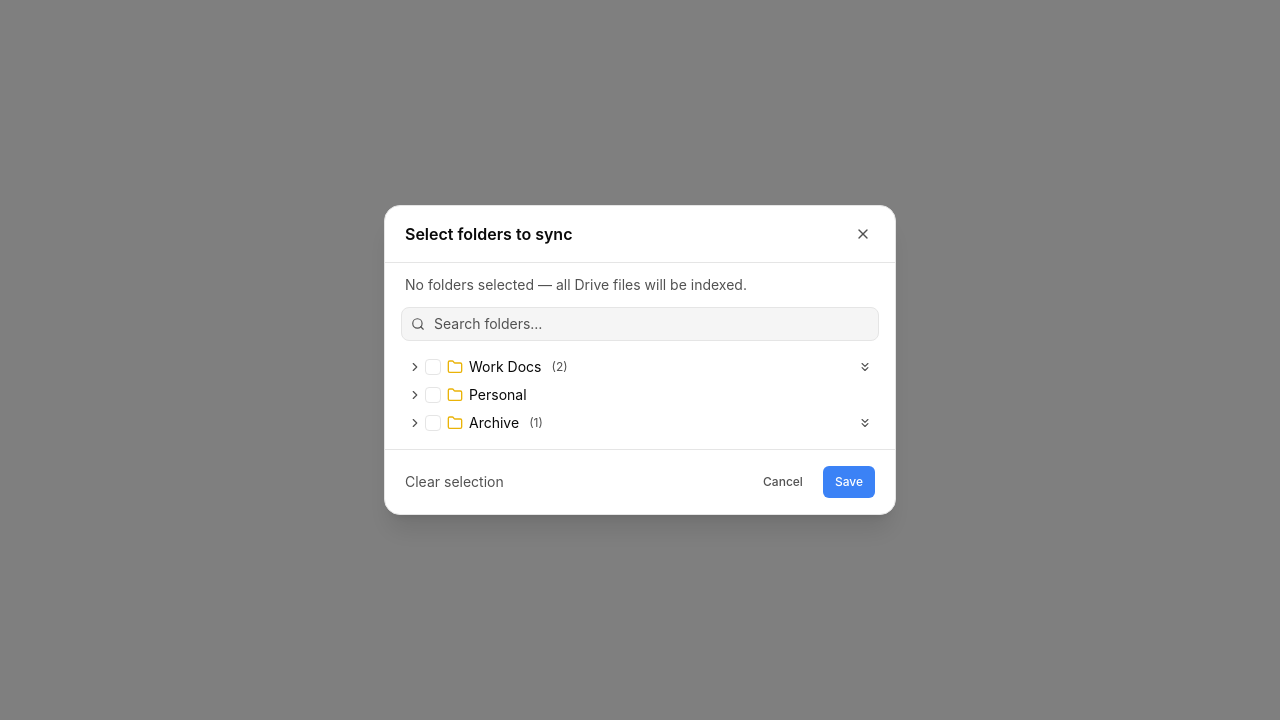
Test: FolderPickerModal › child of a selected parent renders with dimmed/inherited checkbox
Expected: the text "Work Docs" is shown, [469,357,542,377]
Note: Select parent folder-001
Click the 1st checkbox.
click(433, 367)  # box [425,359,441,375]
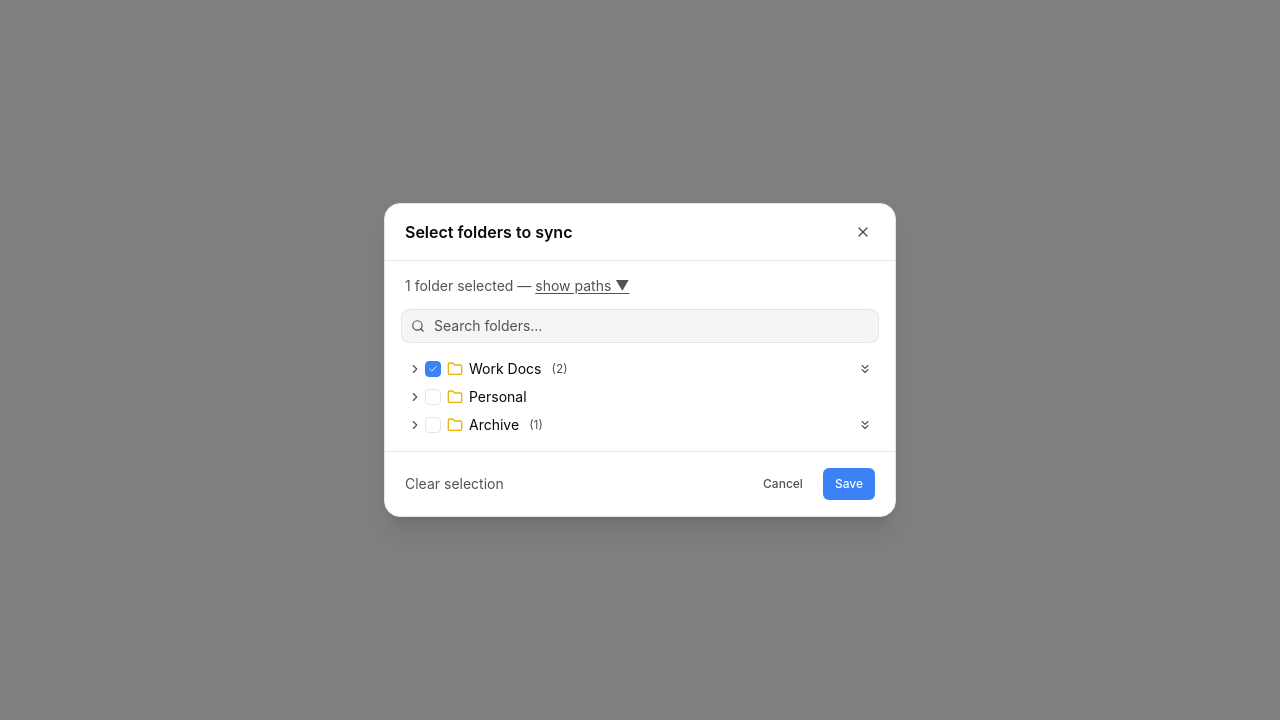
Note: Expand to load children
Click the 1st button named "Expand folder".
click(415, 369)  # box [405,359,425,379]
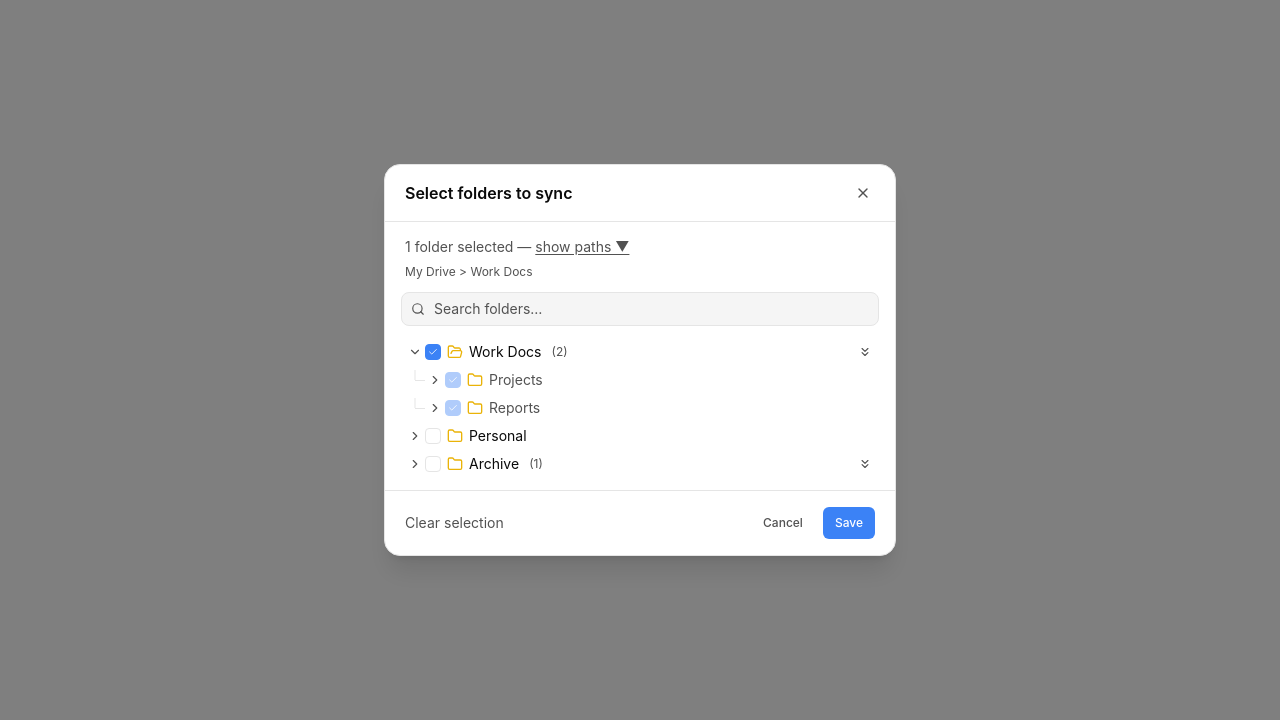
Now the text "Projects" is shown, box [489,370,543,390]
Now the 1st checkbox named "Covered by parent selection" is shown, box [445,372,461,388]
